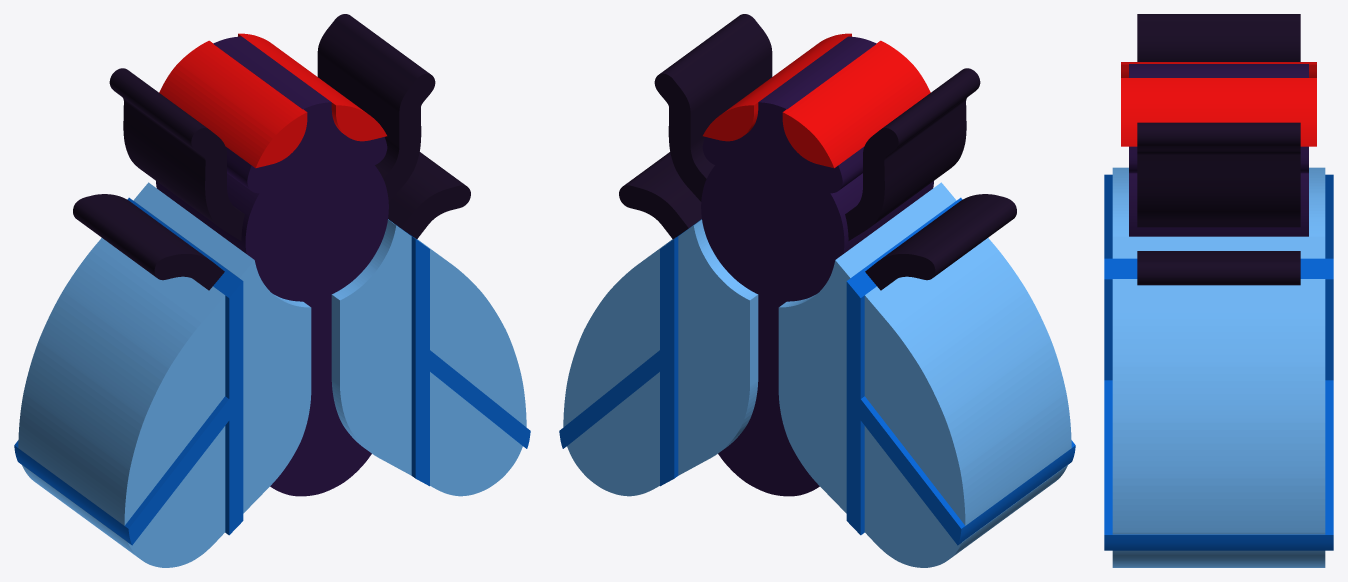
The model's file is U+1FAB0.obj.
3 views of the same model, side by side, from view 1: azimuth 30°, elevation 25°; view 2: azimuth 150°, elevation 25°; view 3: azimuth 270°, elevation 25° (orthographic).
Parts seen in each view (by area): view 1: U+1FAB0_layer03_obj00, U+1FAB0_layer01_obj00, U+1FAB0_layer00_obj00, U+1FAB0_layer04_obj00, U+1FAB0_layer02_obj00; view 2: U+1FAB0_layer03_obj00, U+1FAB0_layer01_obj00, U+1FAB0_layer00_obj00, U+1FAB0_layer04_obj00, U+1FAB0_layer02_obj00; view 3: U+1FAB0_layer03_obj00, U+1FAB0_layer00_obj00, U+1FAB0_layer04_obj00, U+1FAB0_layer02_obj00, U+1FAB0_layer01_obj00.
Boxes of the visible parts, x1,y1,x2,y2 form: U+1FAB0_layer03_obj00: [18, 182, 526, 567]; U+1FAB0_layer01_obj00: [156, 36, 388, 496]; U+1FAB0_layer00_obj00: [73, 14, 470, 290]; U+1FAB0_layer04_obj00: [14, 197, 530, 545]; U+1FAB0_layer02_obj00: [159, 33, 386, 168]; U+1FAB0_layer03_obj00: [563, 182, 1071, 567]; U+1FAB0_layer01_obj00: [701, 36, 933, 496]; U+1FAB0_layer00_obj00: [619, 14, 1016, 290]; U+1FAB0_layer04_obj00: [559, 197, 1075, 545]; U+1FAB0_layer02_obj00: [703, 33, 930, 168]; U+1FAB0_layer03_obj00: [1112, 167, 1325, 567]; U+1FAB0_layer00_obj00: [1137, 14, 1300, 285]; U+1FAB0_layer04_obj00: [1104, 174, 1333, 550]; U+1FAB0_layer02_obj00: [1121, 62, 1316, 146]; U+1FAB0_layer01_obj00: [1129, 64, 1308, 236].
Bounding box in the file's own units: 0.5684 × 0.568 × 0.28.
